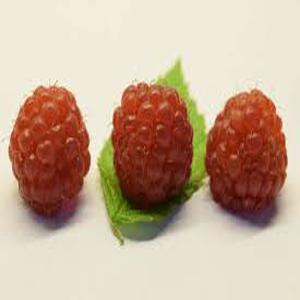raspb: (4, 76, 291, 231)
